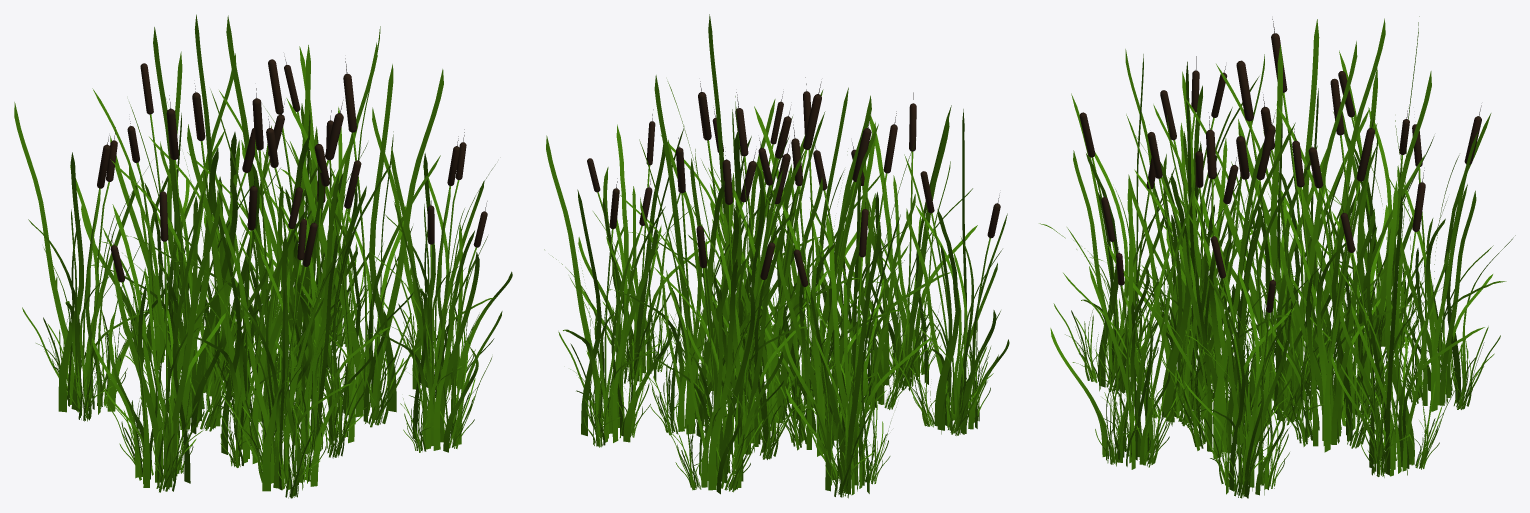
File: cattail-reed-clump.glb
3 renders of one model, left to right at view 1: azimuth 30°, elevation 25°; view 2: azimuth 150°, elevation 25°; view 3: azimuth 270°, elevation 25°, orthographic. The views are drawn at different scales.
Visible parts, largest first — view 1: Object_4_c (×14); view 2: Object_4_c (×14); view 3: Object_4_c (×14).
Boxes of the visible parts, x1,y1,x2,y2 form: Object_4_c (×14): (14,14,512,498); Object_4_c (×14): (544,14,1009,498); Object_4_c (×14): (1039,16,1515,498).
Size of the model in its own units: 2.07 by 1.76 by 2.04.
1 material, 1 textured.
